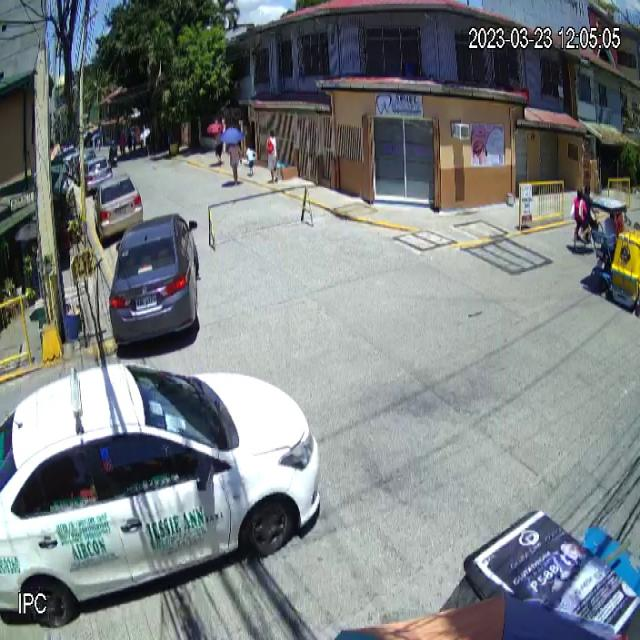Car: (0, 358, 321, 626), (108, 214, 199, 347)
Tricycle: (587, 196, 640, 312)
